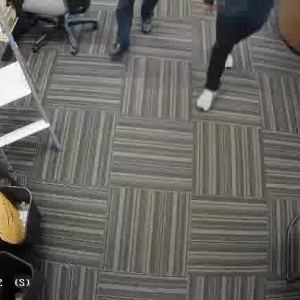person: (196, 0, 275, 110), (108, 0, 159, 58)
